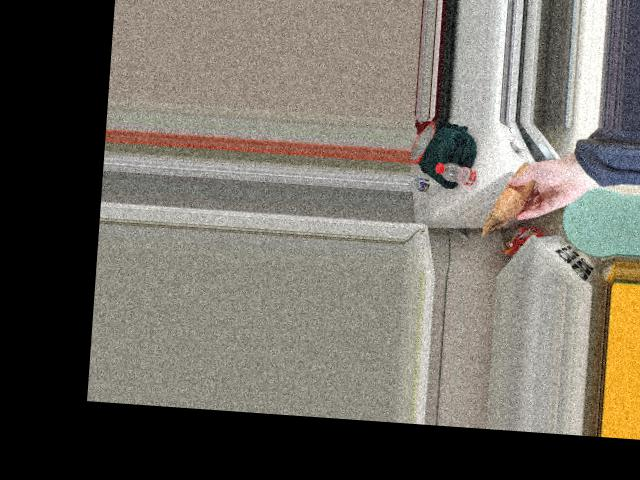sweet_potato: (495, 168, 539, 218)
